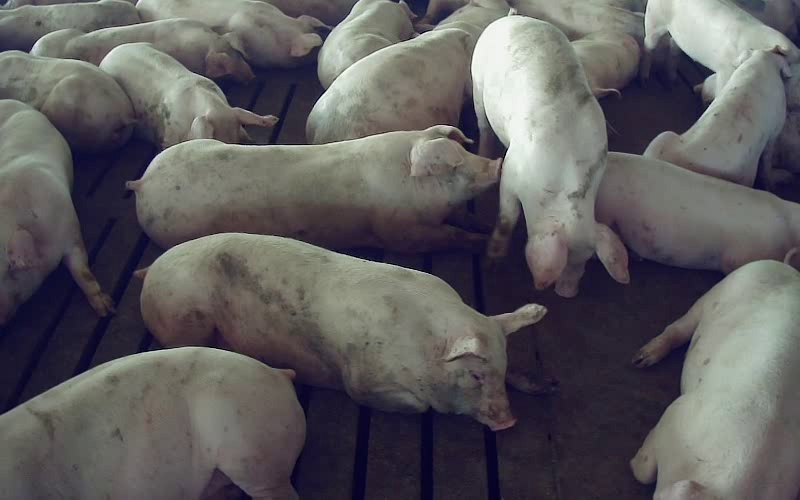pig: (141, 233, 552, 429), (0, 347, 305, 499), (472, 15, 627, 295), (631, 260, 799, 499), (596, 152, 799, 272), (643, 49, 786, 186), (306, 28, 474, 143), (100, 43, 276, 149), (31, 18, 254, 81), (136, 0, 325, 67), (318, 0, 413, 88), (0, 0, 140, 51), (508, 0, 643, 44), (571, 30, 639, 97)
